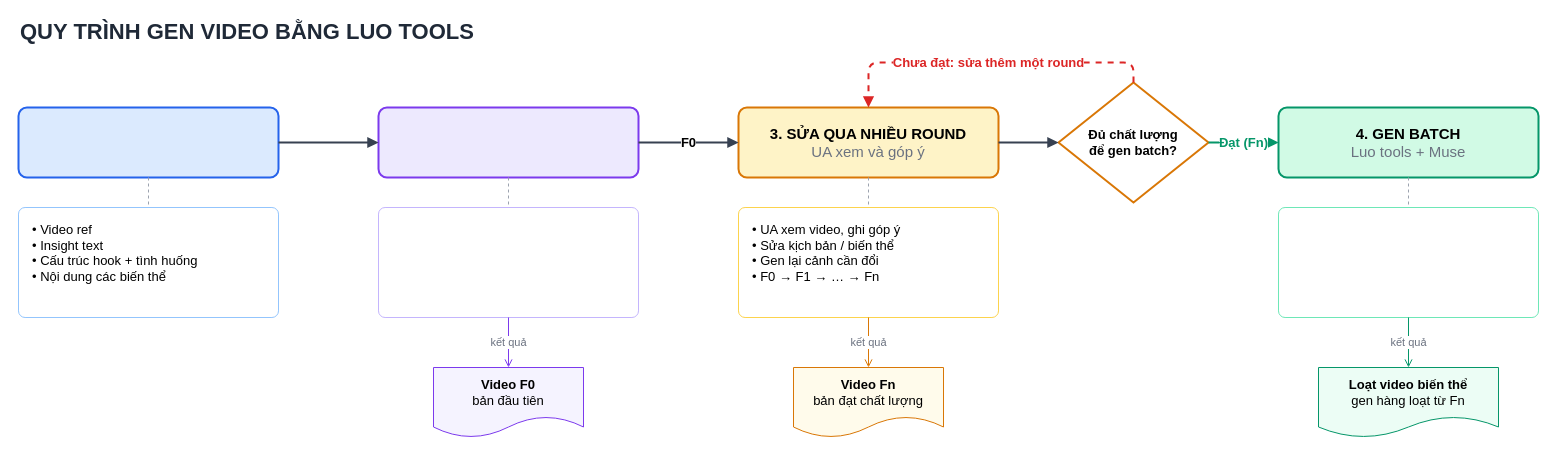
The diagram is 1556 pixels wide and 455 high, and some of its shapes have lost their labels. The shapes that lost their labels are listed below. From the top down, each one's centre as x and y in pixels, then its label:
the point at 148,142: 1. ĐẦU VÀO UA chuẩn bị
the point at 508,142: 2. PHÂN TÍCH KỊCH BẢN Luo tools + Claude CLI
the point at 508,262: • Tách hook / tình huống • Viết kịch bản + biến thể mẫu • Gen thử video đầu tiên
the point at 1408,262: • Lưu kịch bản đã chốt • Thêm dự án từ danh sách biến thể • Muse gen hàng loạt
